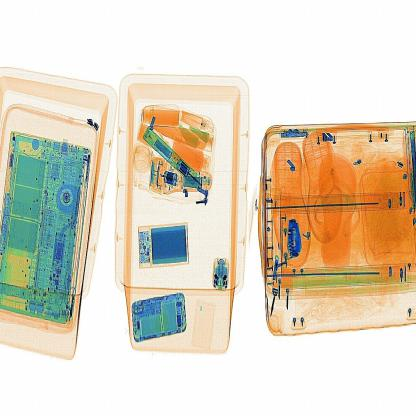scissors: (282, 214, 304, 257)
